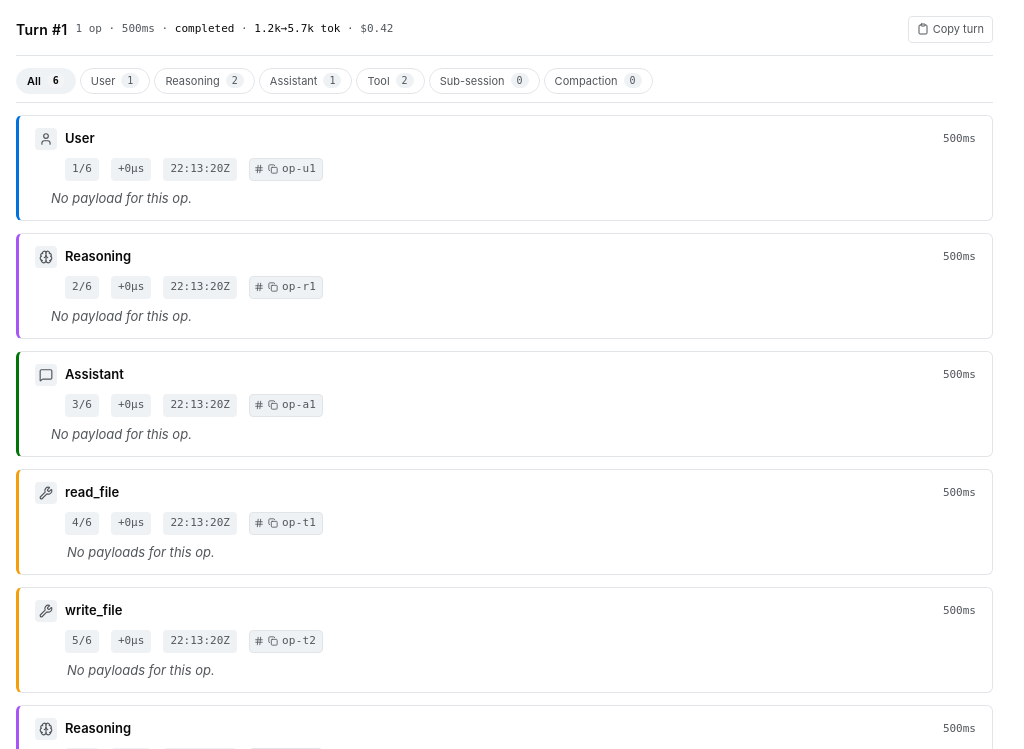
it: TurnView — step filter › filters to user prompts only when 'user' is active
Click the tab "User 1" at (115, 81), box [80,68,150,94]
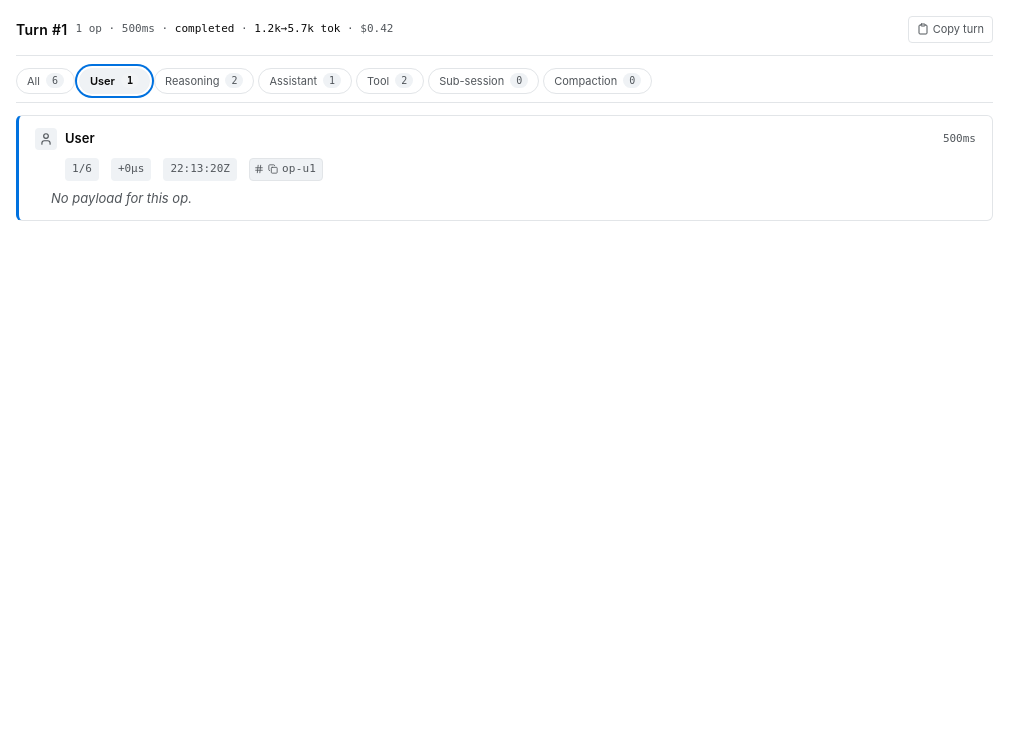
Expected: the element with test id "turn-step-op-u1" is shown, [16,115,993,221]
Result: the element with test id "turn-step-op-r1" is gone
